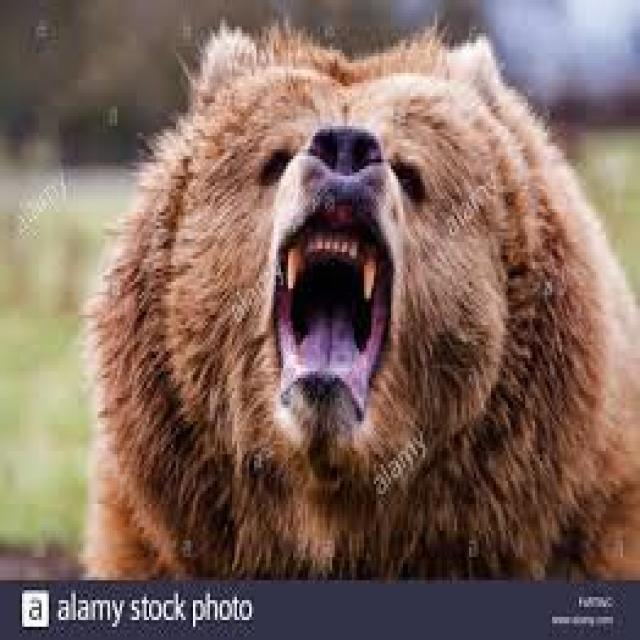bear: (33, 9, 638, 573)
